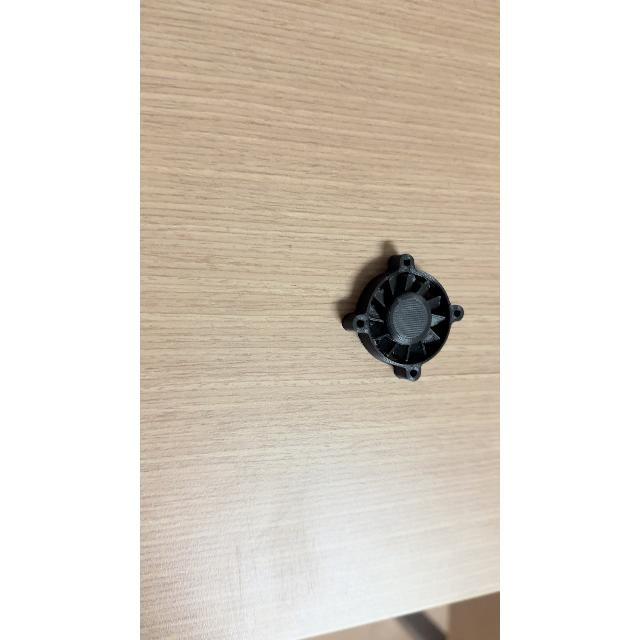Pieza_4: (332, 244, 472, 390)
